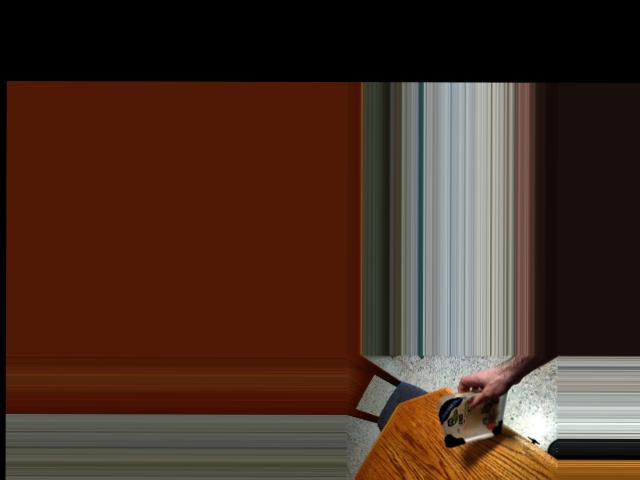cheese: (433, 391, 515, 443)
